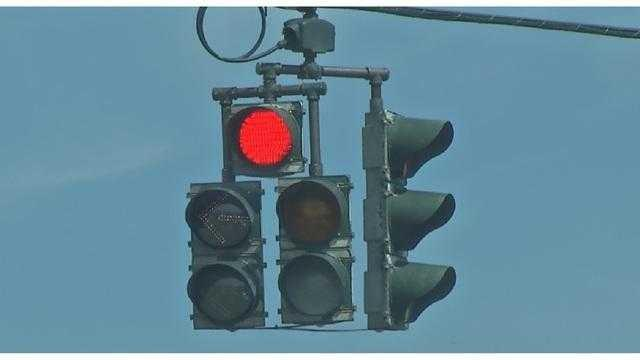red: (223, 101, 303, 173)
